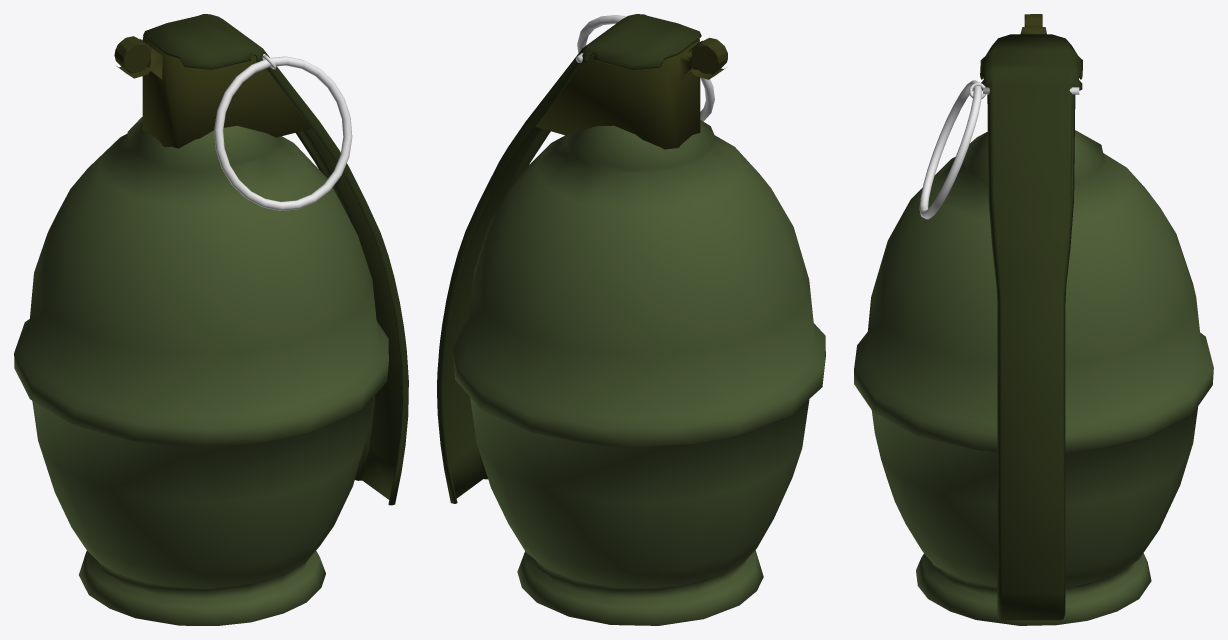
File: grenade.fbx
3 views of the same model, side by side, from view 1: azimuth 30°, elevation 25°; view 2: azimuth 150°, elevation 25°; view 3: azimuth 270°, elevation 25° (orthographic). The views are drawn at different scales.
Parts seen in each view (by area): view 1: Sphere.001, Sphere.002, Sphere, Sphere.003; view 2: Sphere.001, Sphere.002, Sphere, Sphere.003; view 3: Sphere.001, Sphere.002, Sphere.003.
Boxes of the visible parts, left/top/right/bottom form: Sphere.001: left=14, top=117, right=388, bottom=625; Sphere.002: left=143, top=14, right=408, bottom=505; Sphere: left=114, top=33, right=311, bottom=148; Sphere.003: left=214, top=54, right=352, bottom=210; Sphere.001: left=452, top=120, right=825, bottom=625; Sphere.002: left=437, top=14, right=701, bottom=503; Sphere: left=535, top=37, right=727, bottom=149; Sphere.003: left=576, top=14, right=714, bottom=121; Sphere.001: left=854, top=130, right=1213, bottom=625; Sphere.002: left=980, top=34, right=1082, bottom=620; Sphere.003: left=919, top=80, right=1079, bottom=219.
Size of the model in its own units: 223 by 333 by 205.
